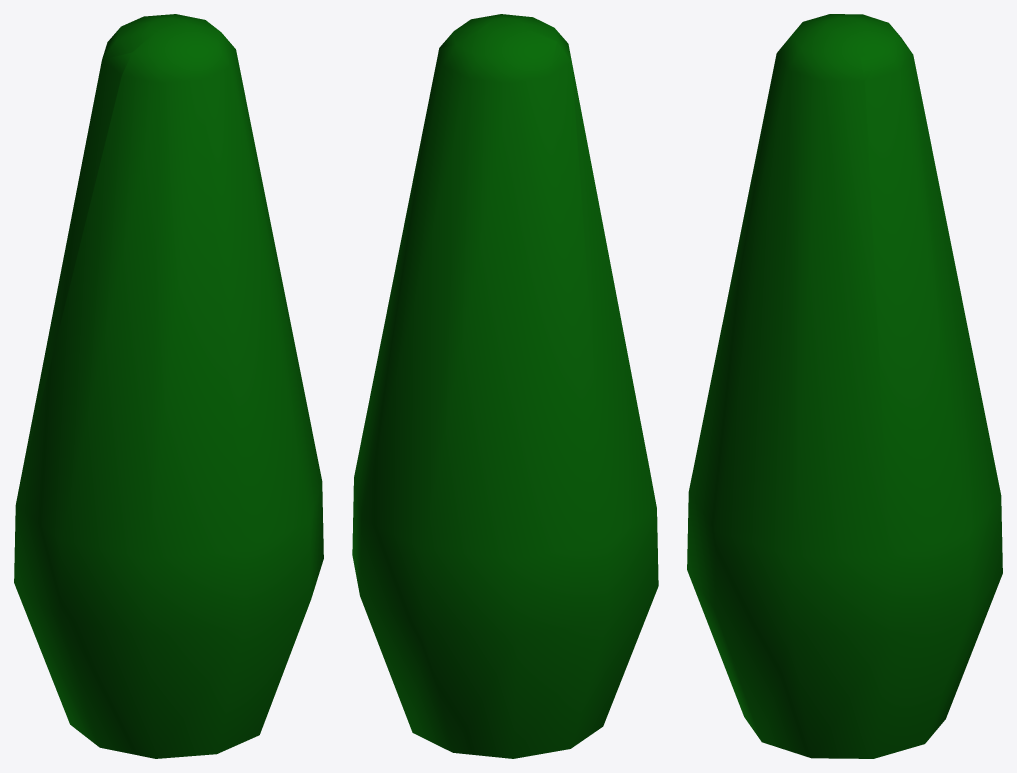
File: Tree_z_Icon_2.dae
3 views of the same model, side by side, from view 1: azimuth 30°, elevation 25°; view 2: azimuth 150°, elevation 25°; view 3: azimuth 270°, elevation 25° (orthographic).
Parts seen in each view (by area): view 1: SketchUp; view 2: SketchUp; view 3: SketchUp.
Boxes of the visible parts, x1=… form: SketchUp: x1=14, y1=14, x2=323, y2=758; SketchUp: x1=352, y1=14, x2=658, y2=758; SketchUp: x1=687, y1=14, x2=1002, y2=758.
Size of the model in its own units: 84.07 by 87.64 by 212.
